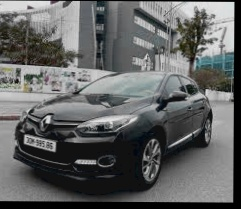Bien-so: (24, 134, 56, 152)
